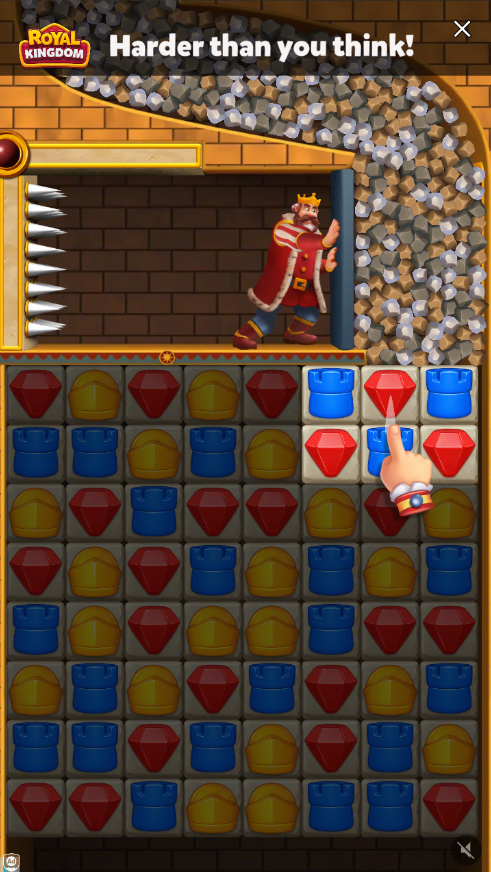close_button: (451, 14, 473, 43)
